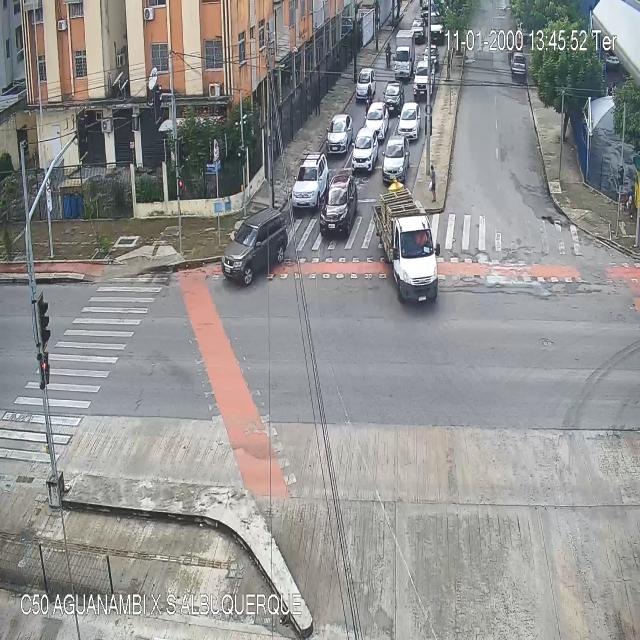Car: (220, 208, 286, 286), (319, 172, 358, 238), (292, 150, 327, 213), (383, 140, 409, 182), (352, 132, 378, 173), (327, 112, 352, 153), (397, 104, 420, 142), (354, 66, 375, 104), (384, 80, 405, 117), (413, 63, 431, 97), (364, 104, 385, 133), (428, 12, 444, 44), (411, 19, 425, 43), (511, 50, 525, 74), (420, 4, 430, 20)
Motorcycle: (383, 42, 392, 72)
Truck: (371, 192, 438, 304), (393, 28, 416, 76)
